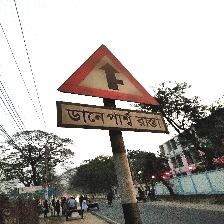Side-road-right: (55, 44, 167, 135)
